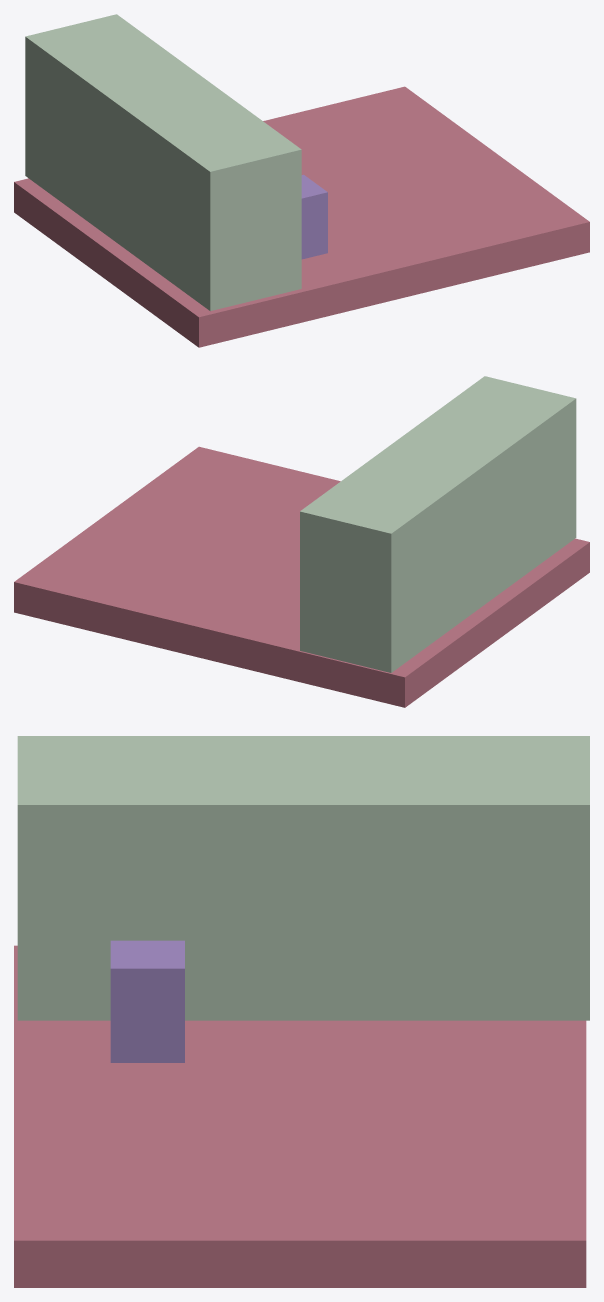
The picture shows the model from 3 angles, top to bottom: view 1: azimuth 30°, elevation 25°; view 2: azimuth 150°, elevation 25°; view 3: azimuth 270°, elevation 25°; orthographic projection. The views are drawn at different scales.
Visible parts, largest first — view 1: world; view 2: world; view 3: world.
Boxes of the visible parts, x1=… form: world: x1=14, y1=14, x2=589, y2=347; world: x1=14, y1=376, x2=589, y2=707; world: x1=14, y1=736, x2=589, y2=1287.
Size of the model in its own units: 9.4 by 3.95 by 7.75.
